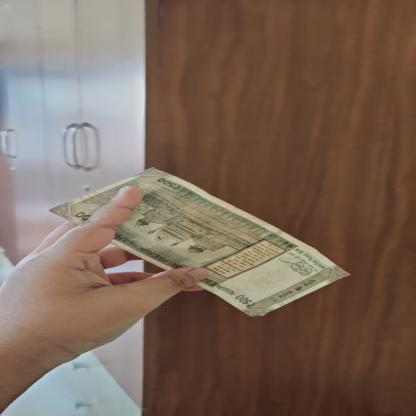New500Back: (46, 167, 350, 318)
